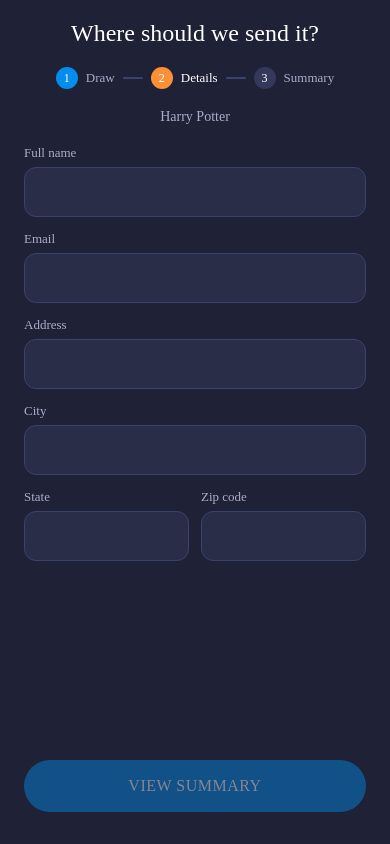
Test: OrderDetails screen › validates the email and zip code formats
Type "nope" into the field named "Email".
click(195, 278); type("nope")  # box [24,253,366,303]
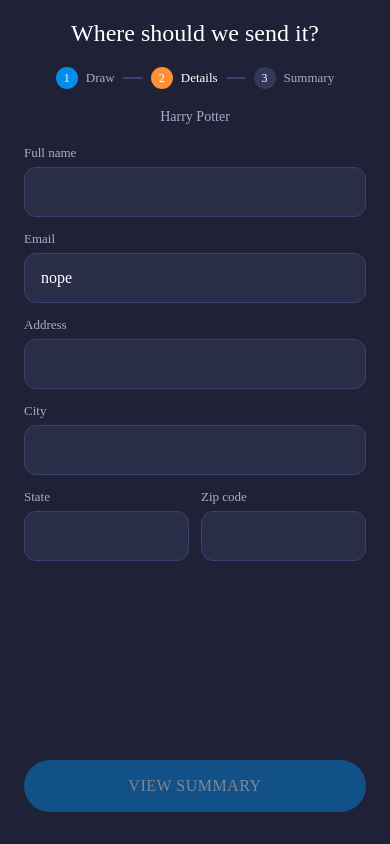
Type "12" into the field named "Zip code".
click(284, 536); type("12")  # box [201,511,366,561]
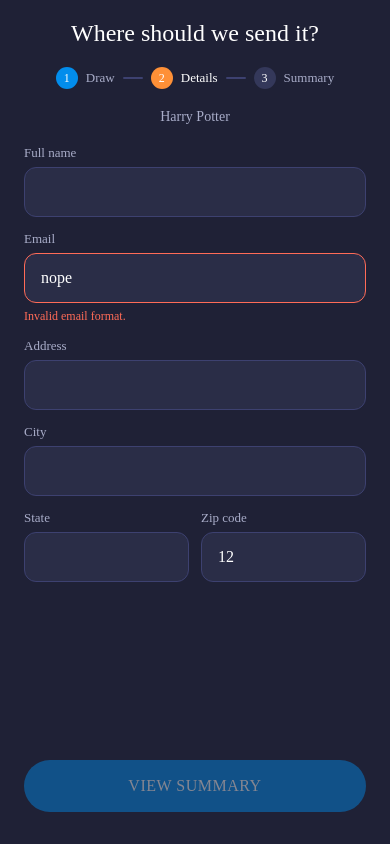
Leave the field named "Zip code", box [201,532,366,582]
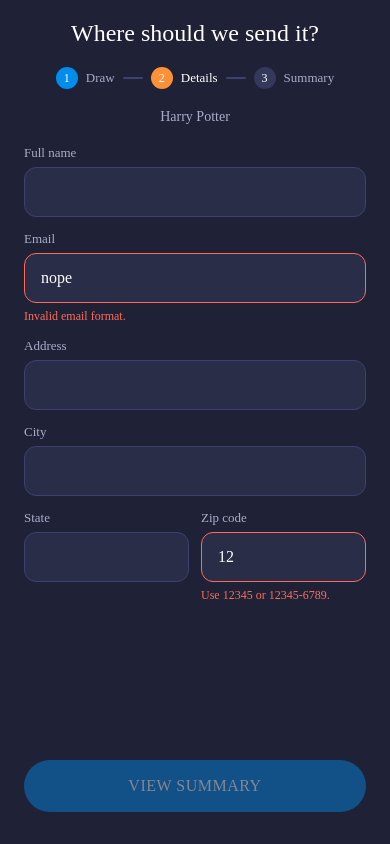
Check: the text "Invalid email format." is shown, box [24,309,126,323]
Check: the text "Use 12345 or 12345-6789." is shown, box [201,588,330,602]
